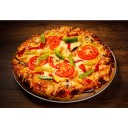pepperonipizza: (13, 26, 114, 95)
